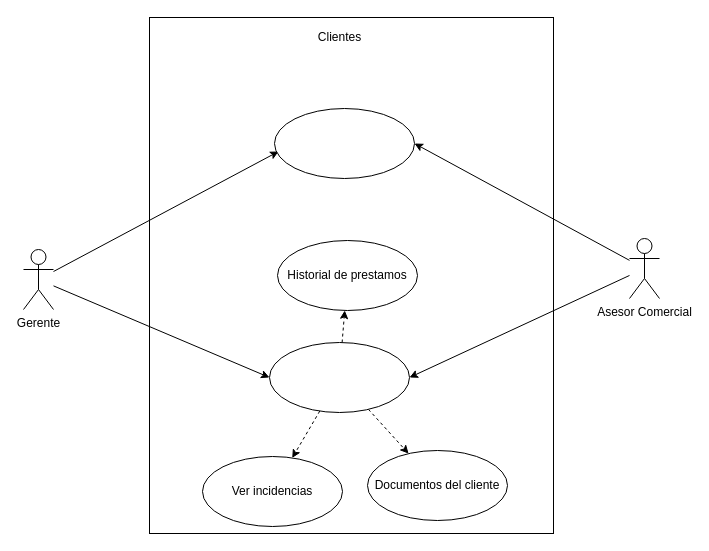
This 709x551 diagram has some shape labels left out. Each missing label, with the centre of its shape:
Ver lista de clientes de la empresa: the point at 344,143
Ver perfil de un cliente: the point at 339,377
